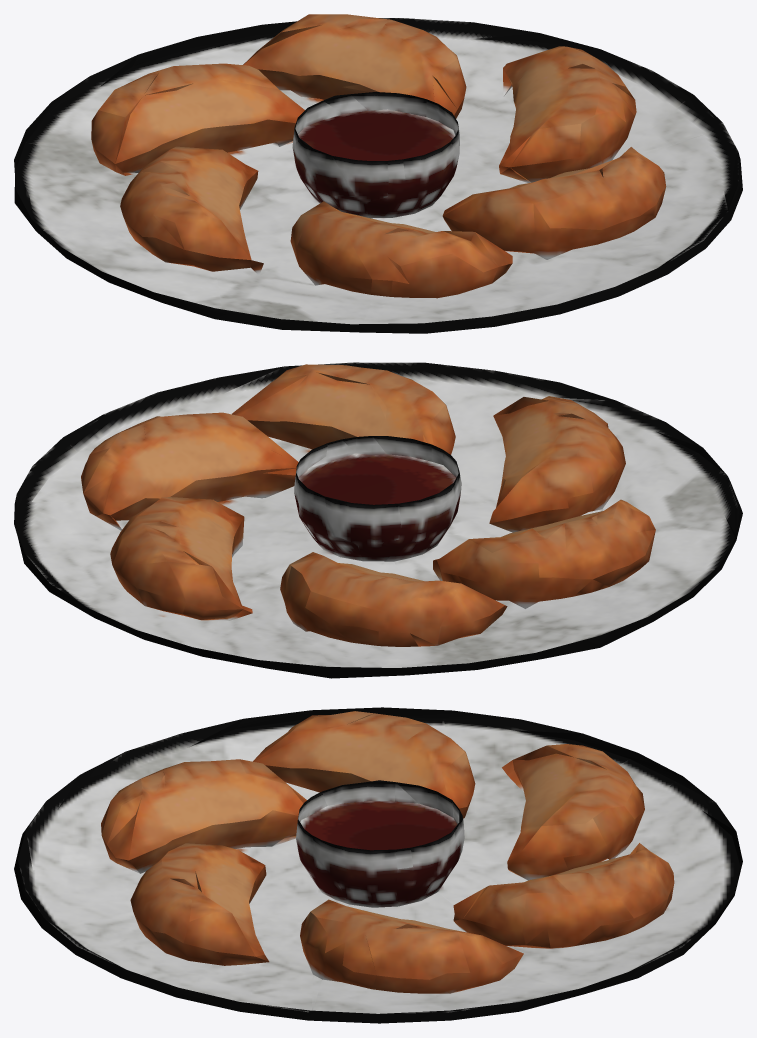
Rendered from food_gyoza.glb.
3 views of the same model, one above another, from view 1: azimuth 30°, elevation 25°; view 2: azimuth 150°, elevation 25°; view 3: azimuth 270°, elevation 25° (orthographic).
Parts seen in each view (by area): view 1: mesh; view 2: mesh; view 3: mesh.
Part boxes in pixels (x1,y1,x2,y2): mesh: (14,14,742,333); mesh: (14,362,742,678); mesh: (14,707,742,1023).
Bounding box in the file's own units: 0.4789 × 0.05 × 0.48.
1 material, 1 textured.
